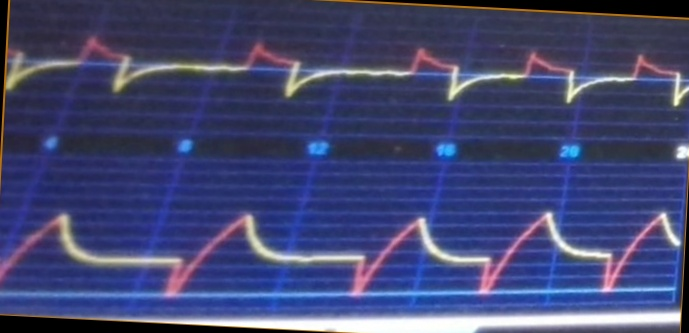Flow: (9, 25, 689, 126)
Leakage Volume: (1, 200, 682, 308)
